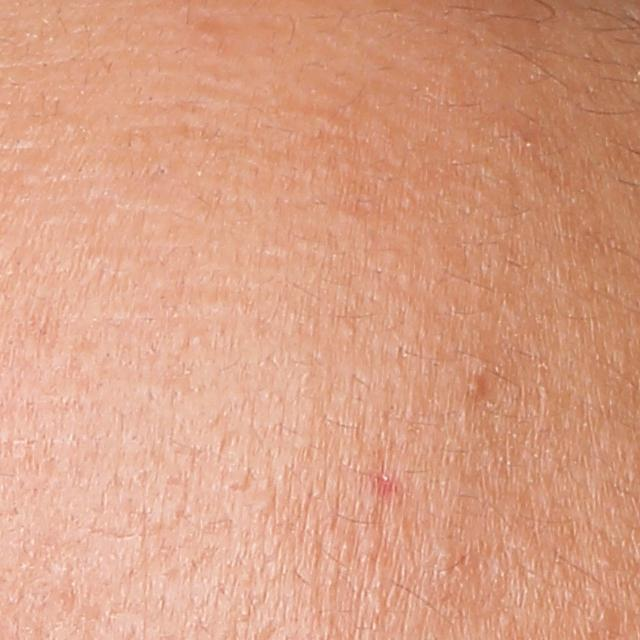comedo: (461, 371, 488, 406), (433, 541, 455, 570)
